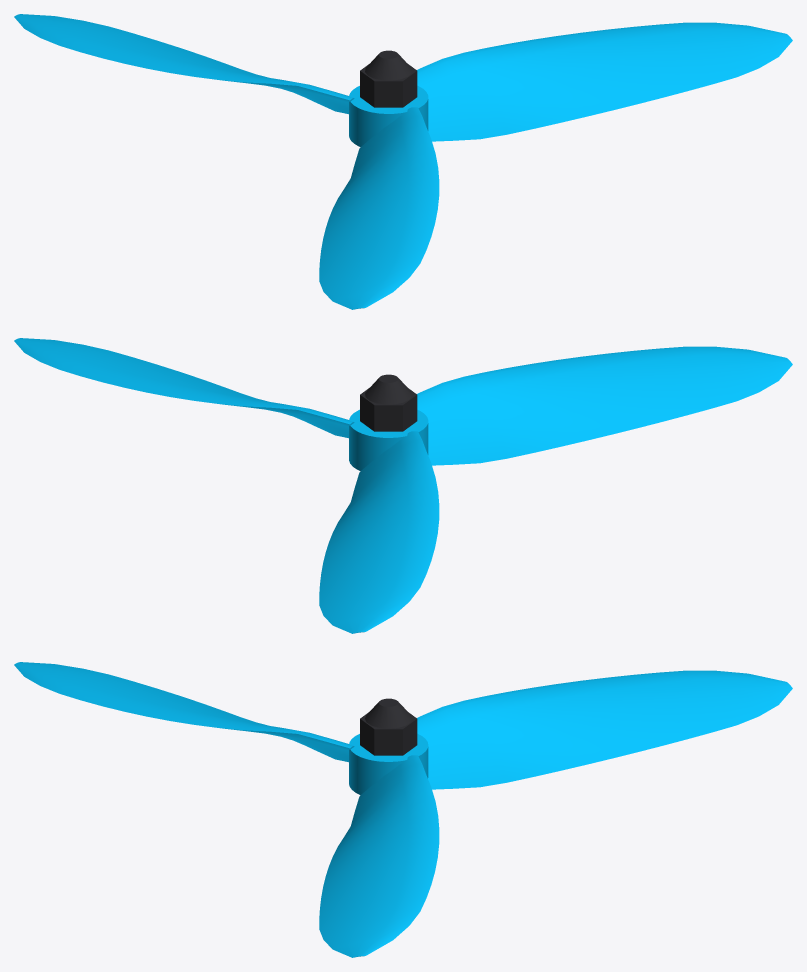
Rendered from prop_6030_3b.glb.
The picture shows the model from 3 angles, top to bottom: view 1: azimuth 30°, elevation 25°; view 2: azimuth 150°, elevation 25°; view 3: azimuth 270°, elevation 25°; orthographic projection.
Parts seen in each view (by area): view 1: prop_6030_3b_M_Prop_6030_3b, prop_6030_3b_M_Nut; view 2: prop_6030_3b_M_Prop_6030_3b, prop_6030_3b_M_Nut; view 3: prop_6030_3b_M_Prop_6030_3b, prop_6030_3b_M_Nut.
Part boxes in pixels (bbox=[...]): prop_6030_3b_M_Prop_6030_3b: bbox=[14, 14, 792, 309]; prop_6030_3b_M_Nut: bbox=[360, 50, 417, 107]; prop_6030_3b_M_Prop_6030_3b: bbox=[14, 338, 792, 633]; prop_6030_3b_M_Nut: bbox=[360, 374, 417, 431]; prop_6030_3b_M_Prop_6030_3b: bbox=[14, 662, 792, 957]; prop_6030_3b_M_Nut: bbox=[360, 698, 417, 755].
Size of the model in its own units: 0.1202 by 0.0166 by 0.1331.
